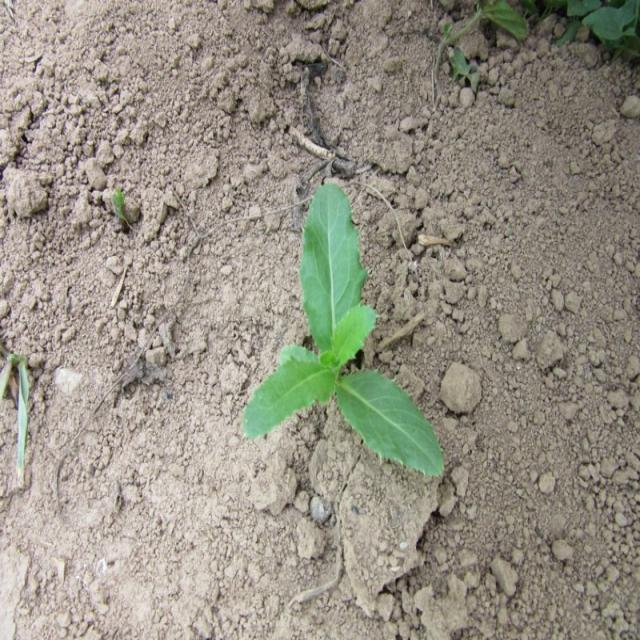cs: (240, 177, 449, 490)
